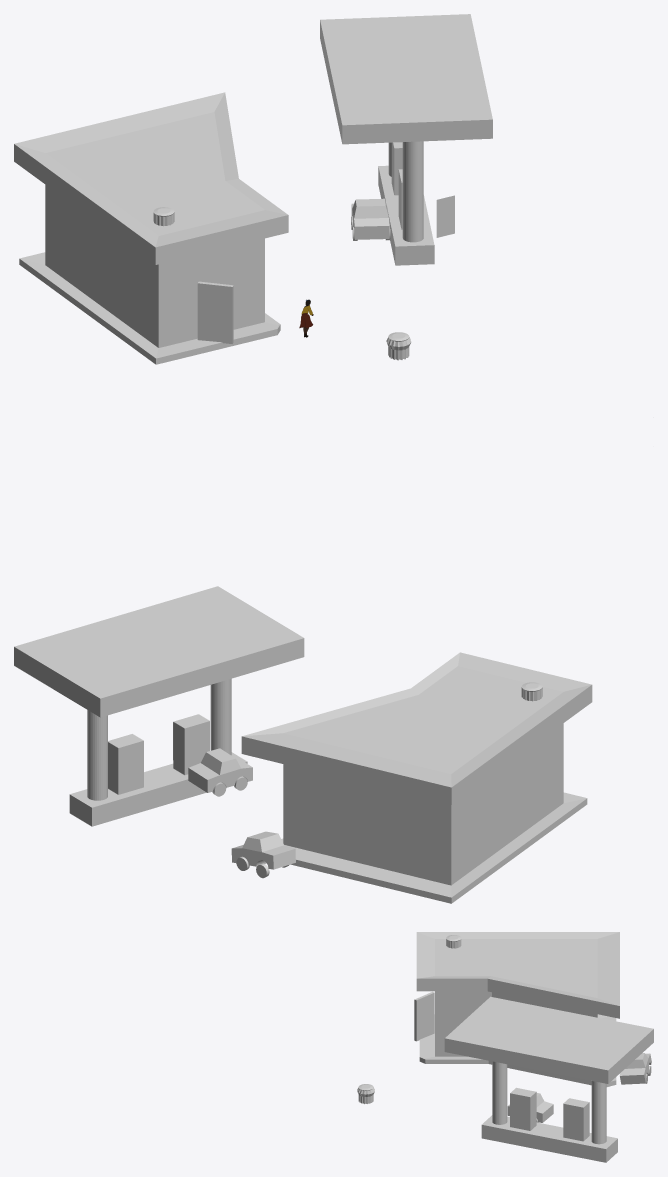
The picture shows the model from 3 angles, top to bottom: view 1: azimuth 30°, elevation 25°; view 2: azimuth 150°, elevation 25°; view 3: azimuth 270°, elevation 25°; orthographic projection. The views are drawn at different scales.
Parts seen in each view (by area): view 1: building.001, carport_roof.001, carport_base.001, carport_pillar_near.001, door.001, car_body.001, chester.001, roof_turbine.001; view 2: building.001, carport_roof.001, carport_base.001, car_body.001, carport_pillar_far.001, wrecked_car_body.001, carport_pillar_near.001; view 3: building.001, carport_roof.001, carport_base.001, carport_pillar_near.001, carport_pillar_far.001, door.001, wrecked_car_body.001, car_body.001.
Part boxes in pixels (x1,y1,x2,y2): building.001: (14, 92, 288, 364); carport_roof.001: (320, 14, 492, 144); carport_base.001: (378, 142, 434, 265); carport_pillar_near.001: (402, 141, 423, 242); door.001: (197, 281, 233, 343); car_body.001: (351, 198, 389, 239); chester.001: (436, 195, 454, 237); roof_turbine.001: (386, 332, 411, 360); building.001: (241, 652, 592, 903); carport_roof.001: (14, 586, 304, 717); carport_base.001: (69, 714, 247, 826); car_body.001: (188, 748, 252, 792); carport_pillar_far.001: (87, 710, 107, 800); wrecked_car_body.001: (231, 831, 295, 869); carport_pillar_near.001: (210, 678, 231, 755); building.001: (416, 932, 619, 1086); carport_roof.001: (444, 996, 653, 1083); carport_base.001: (481, 1087, 617, 1162); carport_pillar_near.001: (492, 1061, 507, 1124); carport_pillar_far.001: (591, 1081, 606, 1144); door.001: (414, 991, 434, 1041); wrecked_car_body.001: (619, 1053, 651, 1084); car_body.001: (507, 1093, 553, 1122).
Size of what is drawn, in the model's own units: 4920 by 1678 by 8463.
